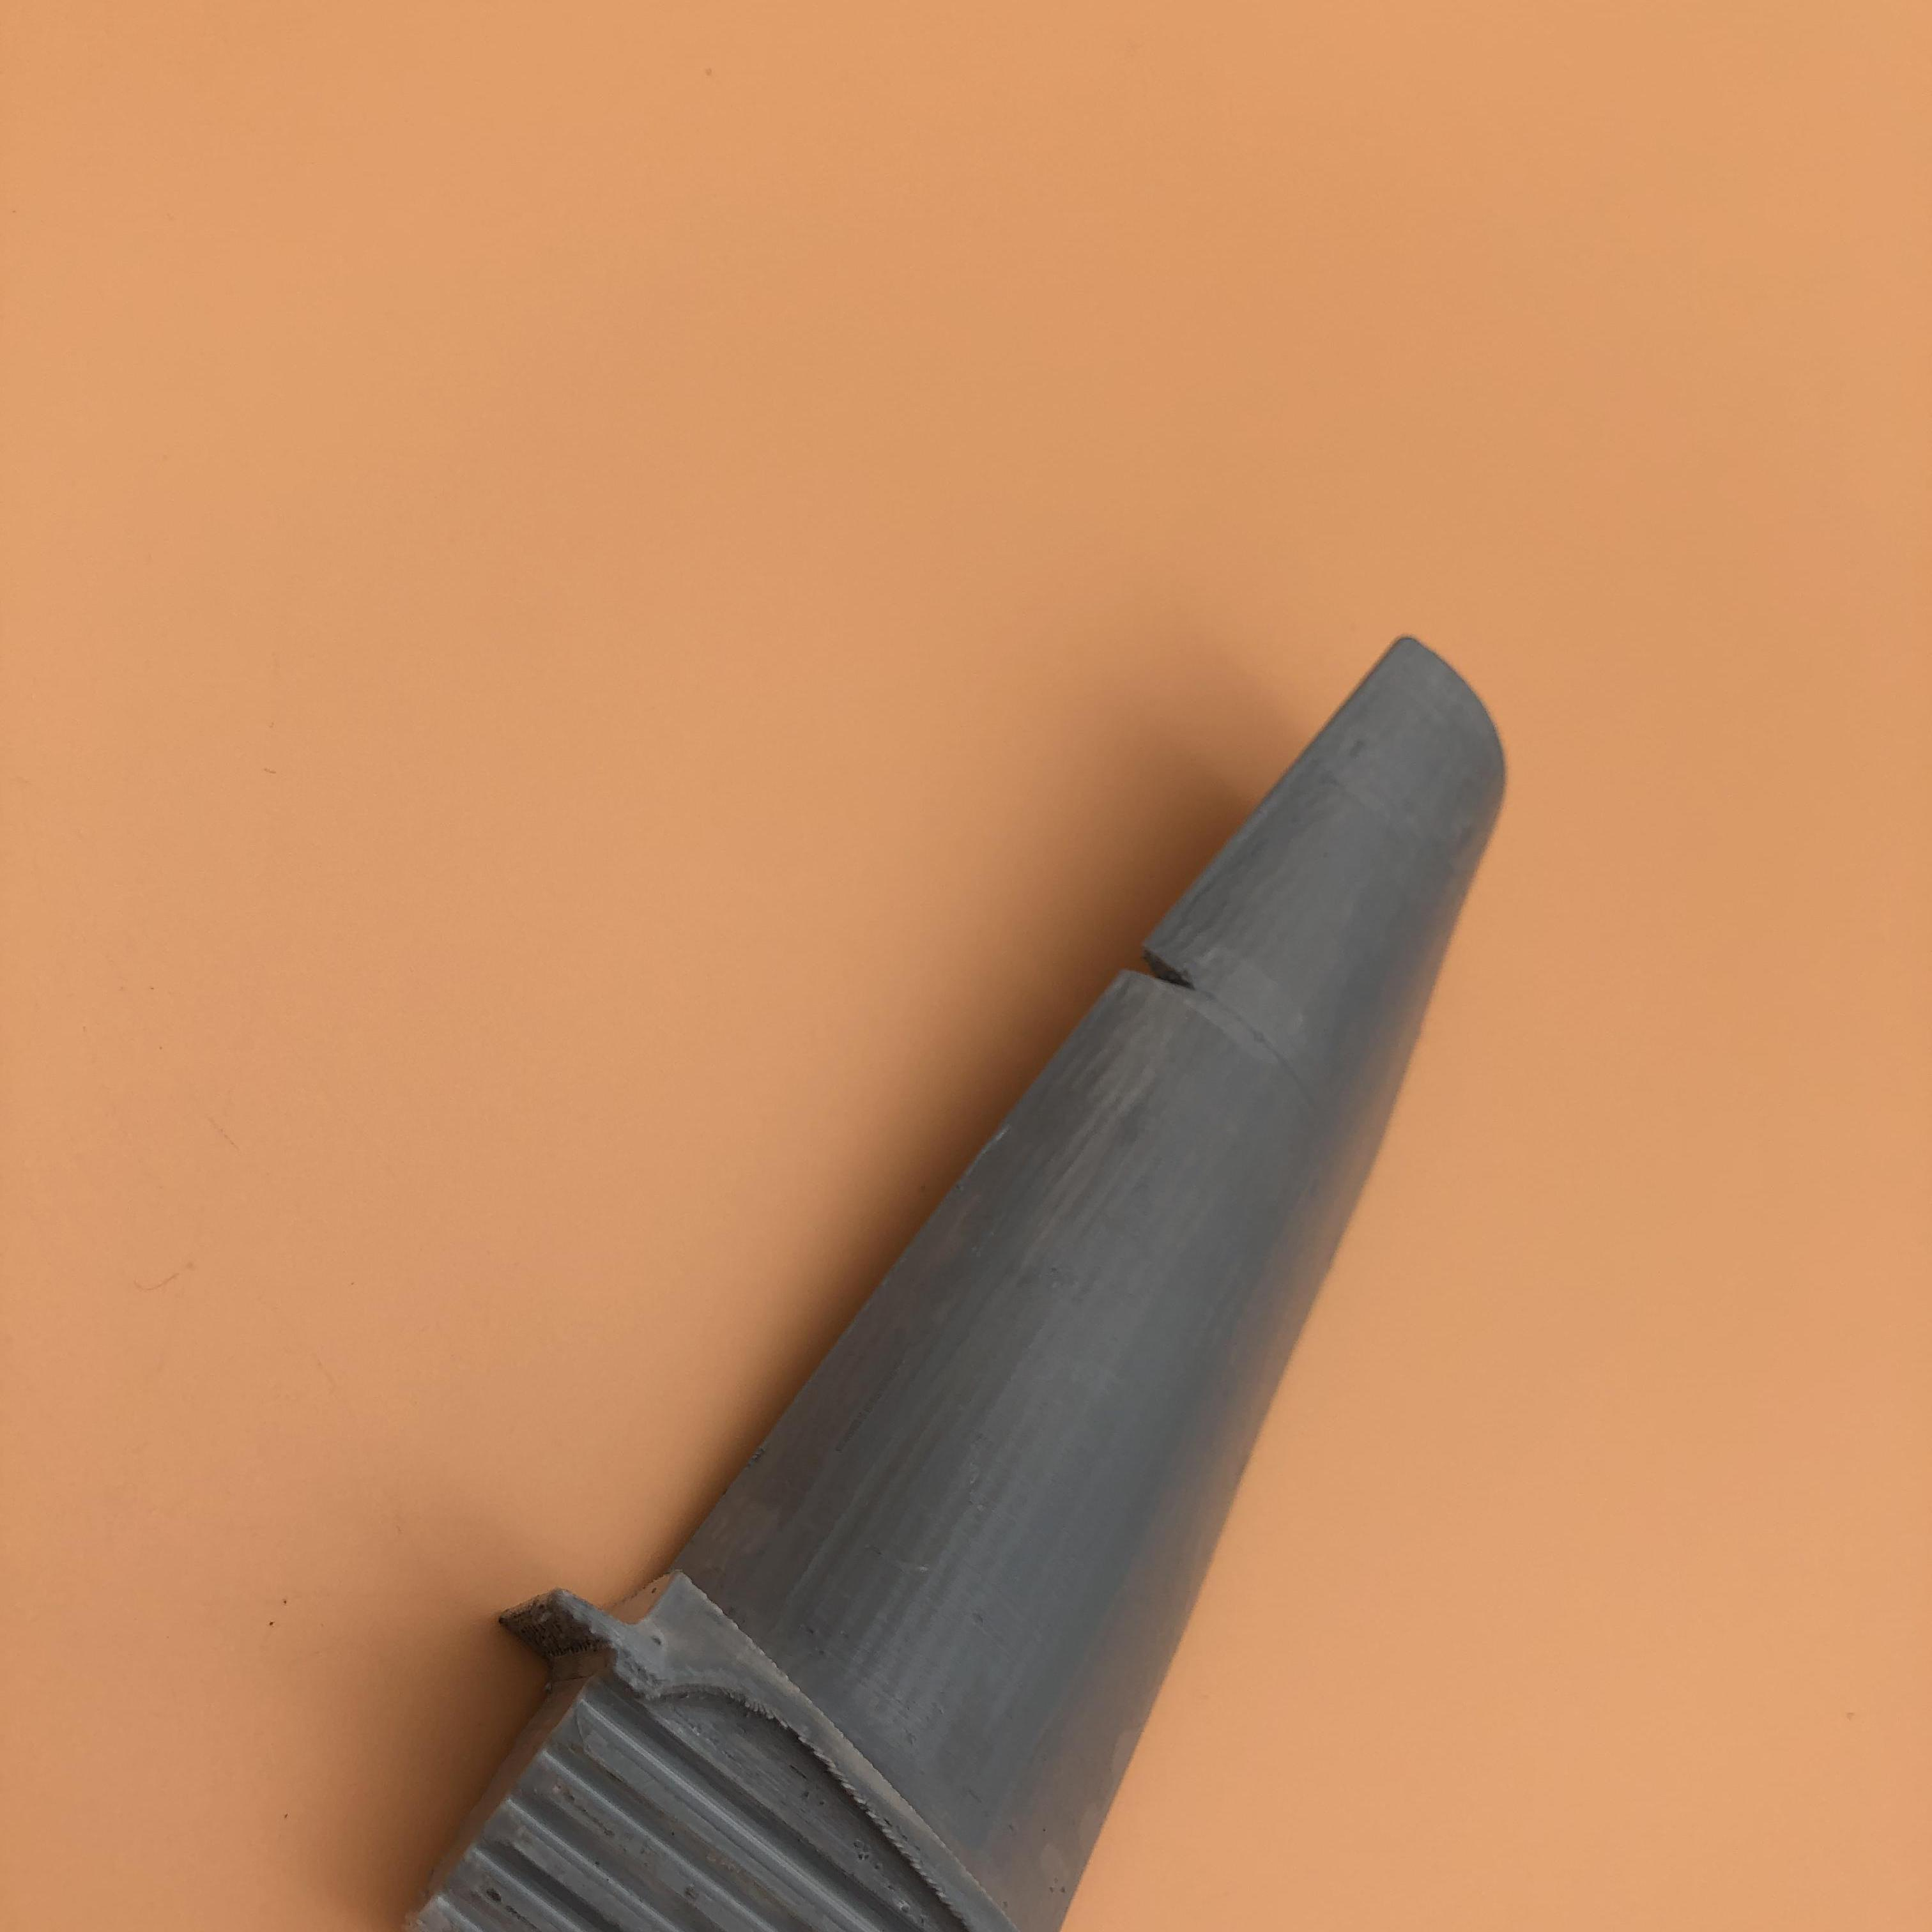groove: (1116, 932, 1217, 998)
